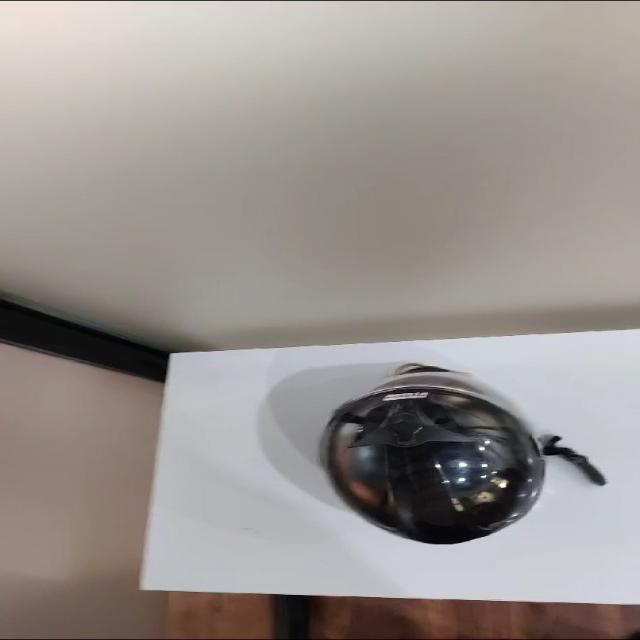helmet: (320, 363, 604, 544)
